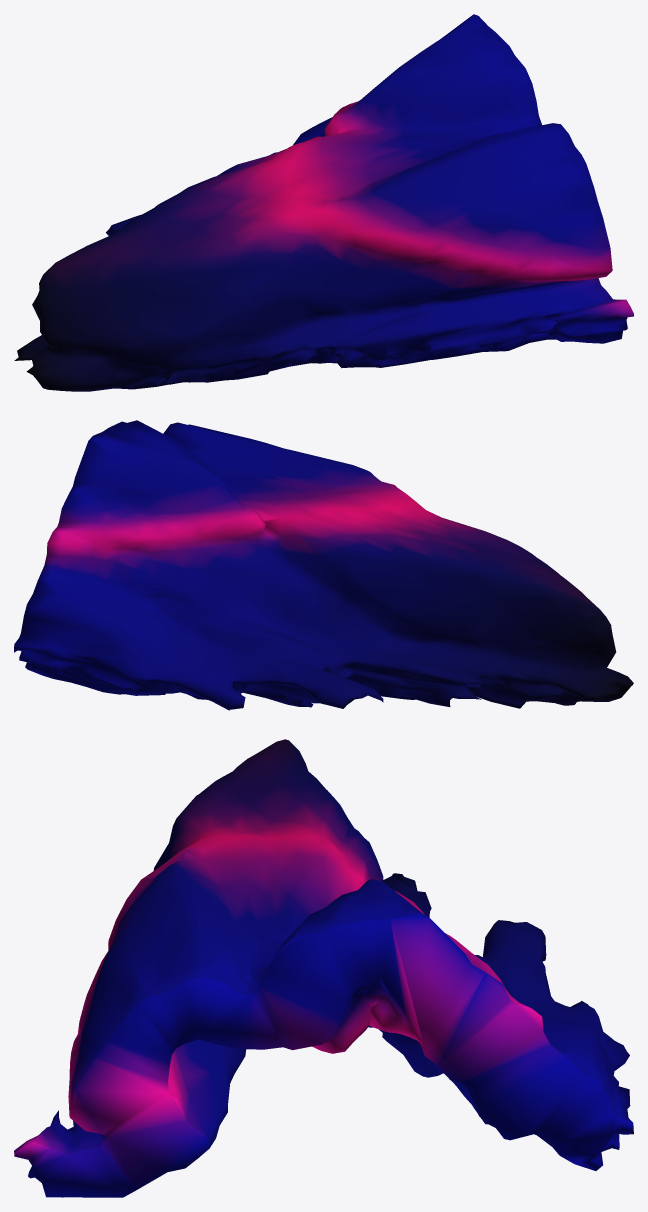
Rendered from silver_vein-u2-cold-lod0.gltf.
The picture shows the model from 3 angles, top to bottom: view 1: azimuth 30°, elevation 25°; view 2: azimuth 150°, elevation 25°; view 3: azimuth 270°, elevation 25°; orthographic projection. The views are drawn at different scales.
Parts seen in each view (by area): view 1: silver_vein-u2-cold-lod0; view 2: silver_vein-u2-cold-lod0; view 3: silver_vein-u2-cold-lod0.
Boxes of the visible parts, bbox=[...] form: silver_vein-u2-cold-lod0: bbox=[14, 14, 633, 391]; silver_vein-u2-cold-lod0: bbox=[14, 420, 633, 710]; silver_vein-u2-cold-lod0: bbox=[14, 739, 633, 1197].
Size of the model in its own units: 0.8336 by 0.3392 by 0.6739.
